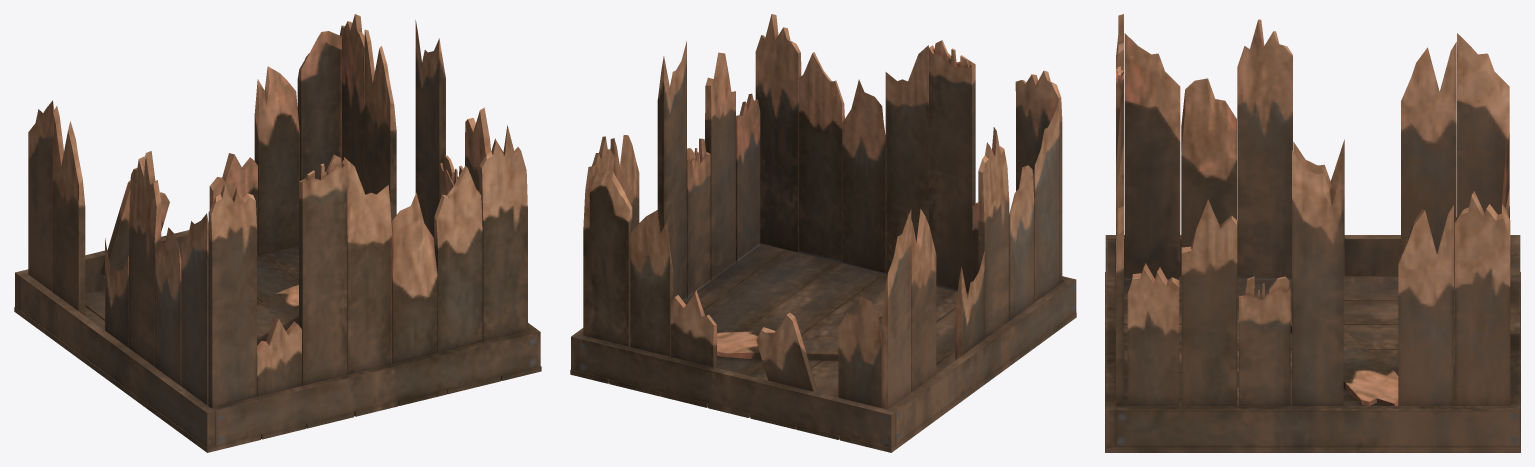
Rendered from DamagedCrate08.glb.
3 views of the same model, side by side, from view 1: azimuth 30°, elevation 25°; view 2: azimuth 150°, elevation 25°; view 3: azimuth 270°, elevation 25° (orthographic). The views are drawn at different scales.
Visible parts, largest first — view 1: Cube_002; view 2: Cube_002; view 3: Cube_002.
Part boxes in pixels (bbox=[...]): Cube_002: bbox=[14, 14, 541, 452]; Cube_002: bbox=[570, 14, 1076, 452]; Cube_002: bbox=[1105, 14, 1520, 452].
Size of the model in its own units: 0.7999 by 0.6308 by 0.7996.
1 material, 1 textured.
